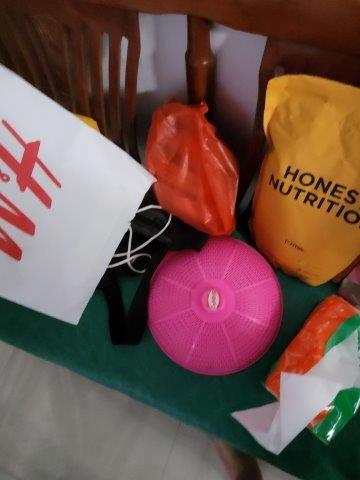plastik: (146, 101, 239, 237)
